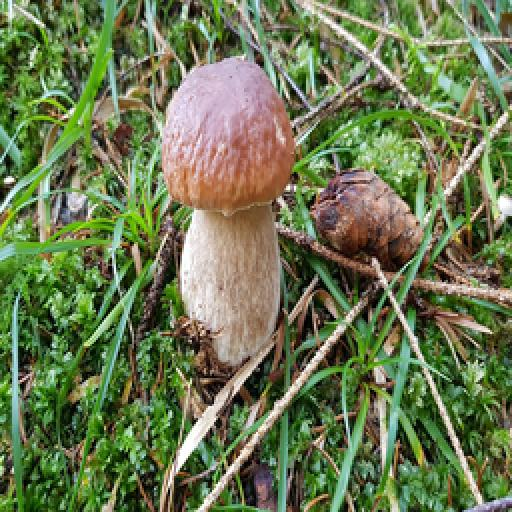mushrooms: (160, 46, 298, 381)
